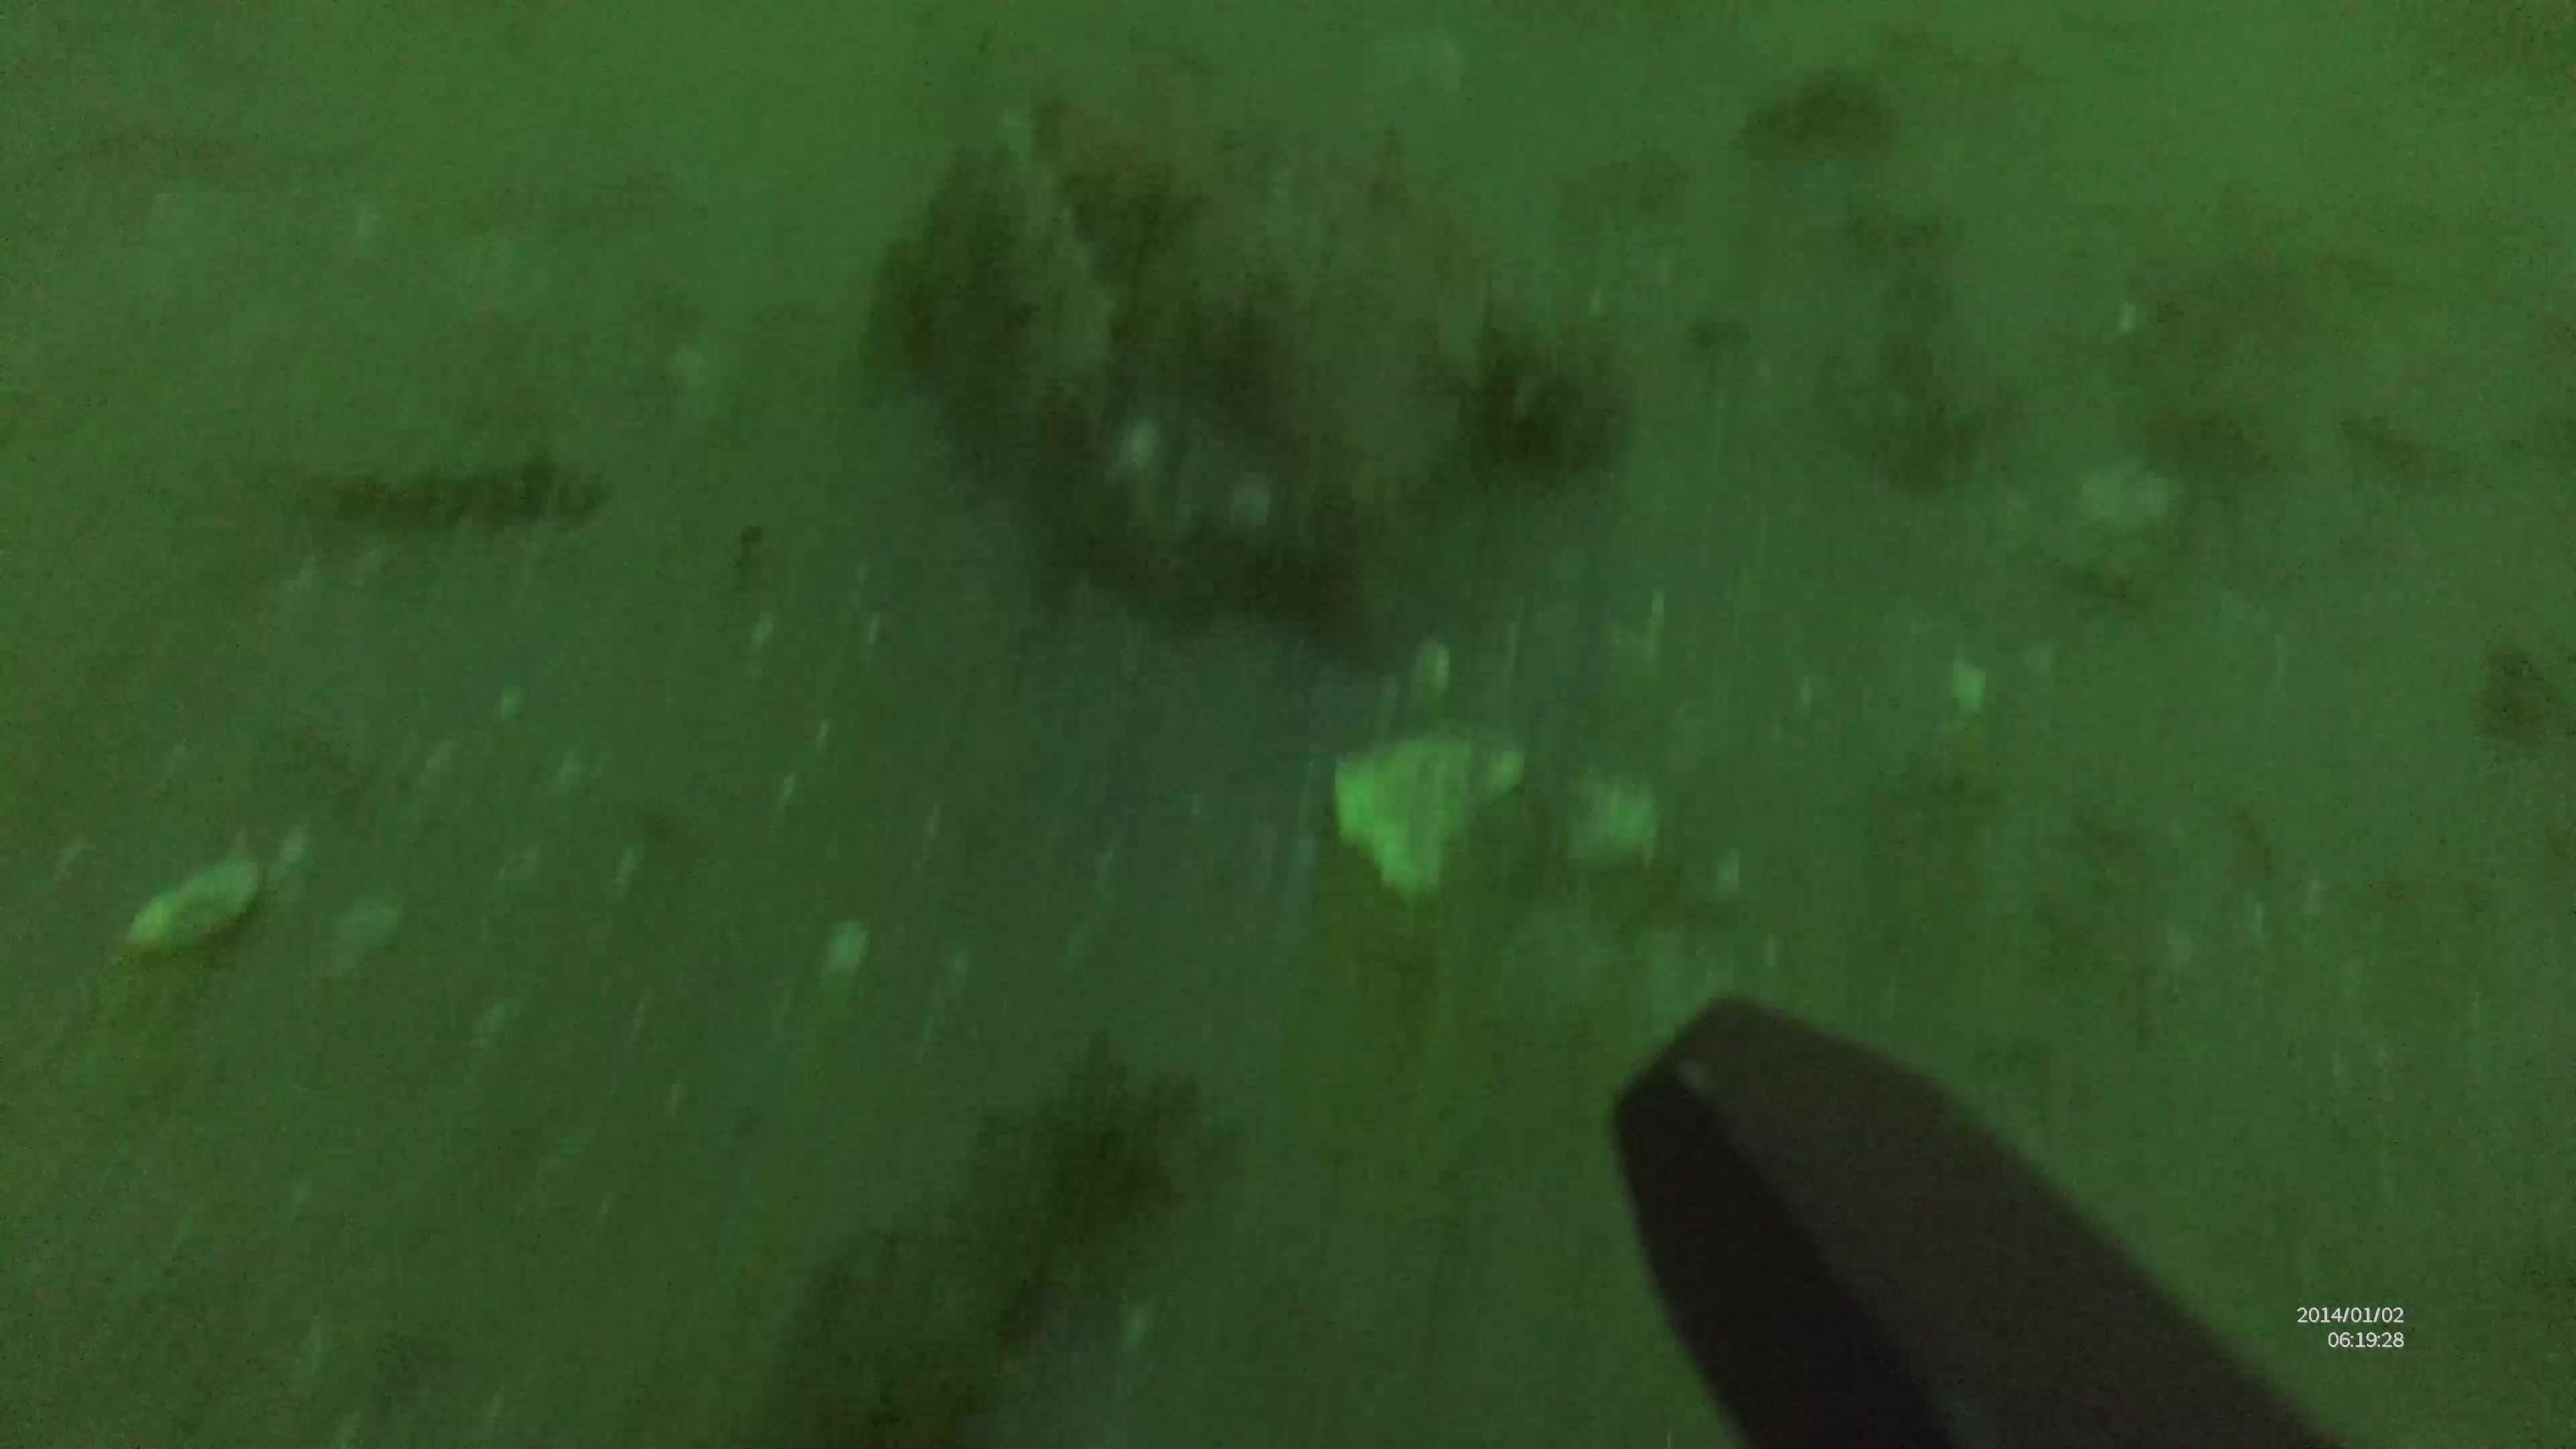echinus: (1440, 331, 1633, 481), (2480, 644, 2551, 740)
holothurian: (287, 453, 605, 552)
scallop: (117, 867, 265, 962)
